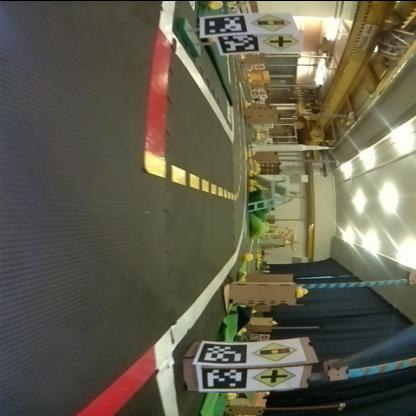Duckie: (297, 284, 309, 296), (209, 1, 224, 8), (244, 252, 254, 260), (250, 184, 258, 190), (250, 168, 258, 174), (250, 178, 258, 182)
Intersection sign: (252, 366, 296, 387), (264, 34, 300, 49)
QR code: (198, 341, 249, 362), (202, 366, 249, 388), (205, 13, 249, 34), (219, 34, 259, 52)
Signal sign: (252, 12, 292, 30)
